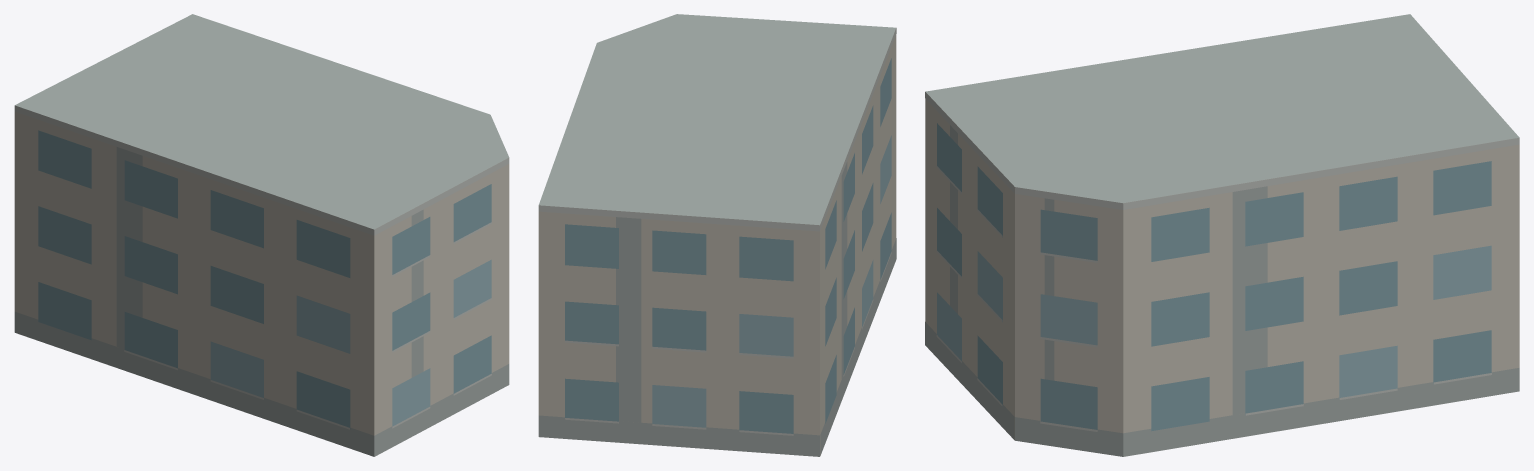
File: residential-5092abbf-d405-45a6-8c80-2646a4b51c55.glb
The picture shows the model from 3 angles, left to right: view 1: azimuth 30°, elevation 25°; view 2: azimuth 150°, elevation 25°; view 3: azimuth 270°, elevation 25°; orthographic projection. The views are drawn at different scales.
Visible parts, largest first — view 1: residential-5092abbf-d405-45a6-8c80-2646a4b51c55.tmp; view 2: residential-5092abbf-d405-45a6-8c80-2646a4b51c55.tmp; view 3: residential-5092abbf-d405-45a6-8c80-2646a4b51c55.tmp.
Boxes of the visible parts, <box> form: residential-5092abbf-d405-45a6-8c80-2646a4b51c55.tmp: <box>14,14,509,456</box>; residential-5092abbf-d405-45a6-8c80-2646a4b51c55.tmp: <box>538,14,896,456</box>; residential-5092abbf-d405-45a6-8c80-2646a4b51c55.tmp: <box>925,14,1519,456</box>.
Bounding box in the file's own units: 14.41 × 9 × 19.12.
